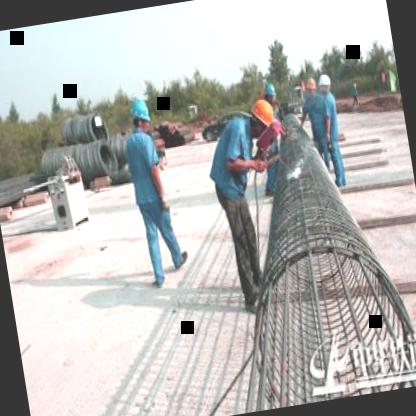helmet: (246, 94, 280, 144), (124, 94, 152, 135), (316, 70, 334, 98), (262, 79, 278, 104), (303, 74, 318, 97)
